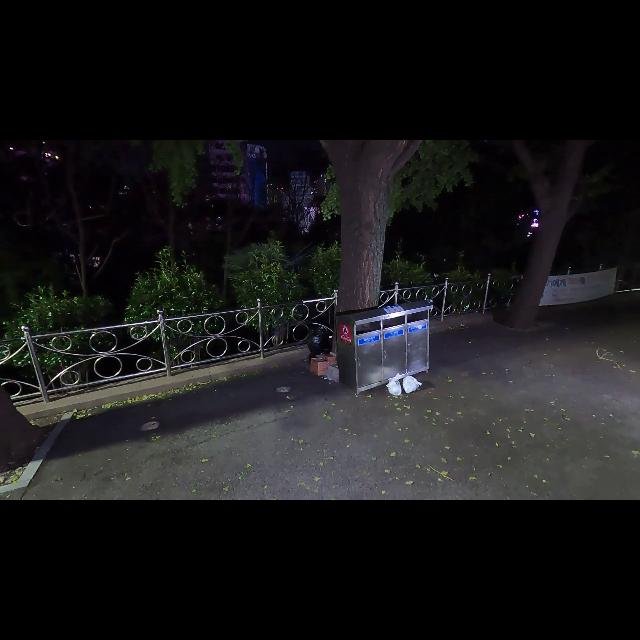trash: (309, 327, 333, 368), (311, 355, 339, 377), (401, 374, 424, 394), (385, 374, 403, 398), (318, 349, 338, 366), (325, 364, 341, 384)
